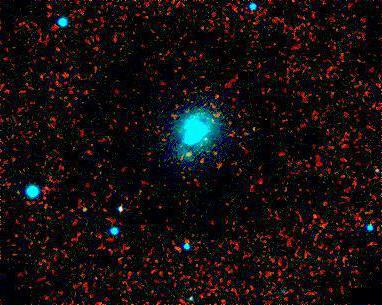star: (171, 143, 201, 173)
